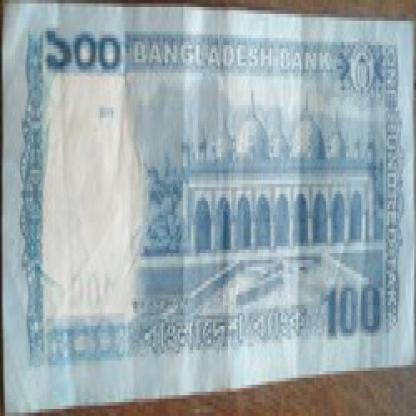one hundred taka: (42, 24, 123, 83), (321, 277, 386, 340)
